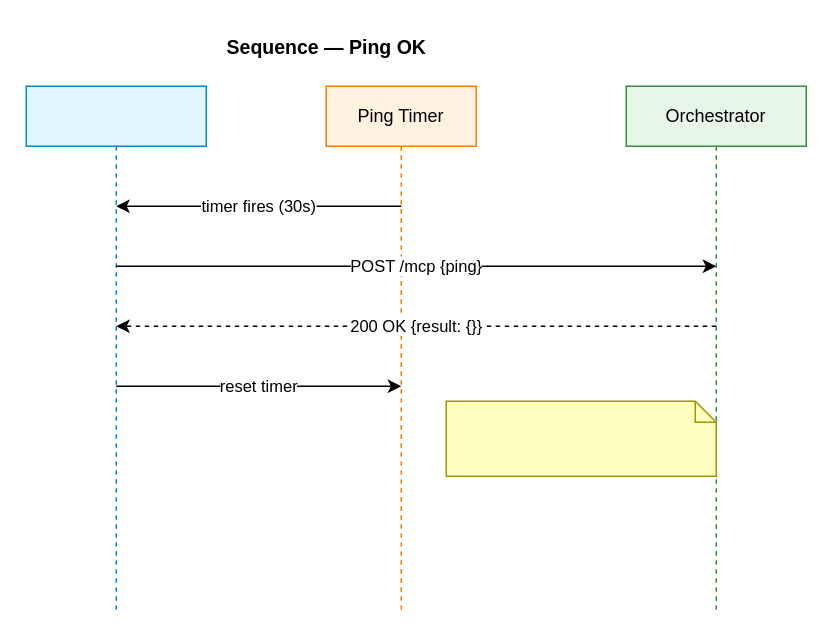
This 833x638 diagram has some shape labels left out. The centre of each missing label's shape, as x and y in pixels:
Bridge Client: pixel 115 348
consecutiveFailures = 0 lastPongAt = now(): pixel 580 438
